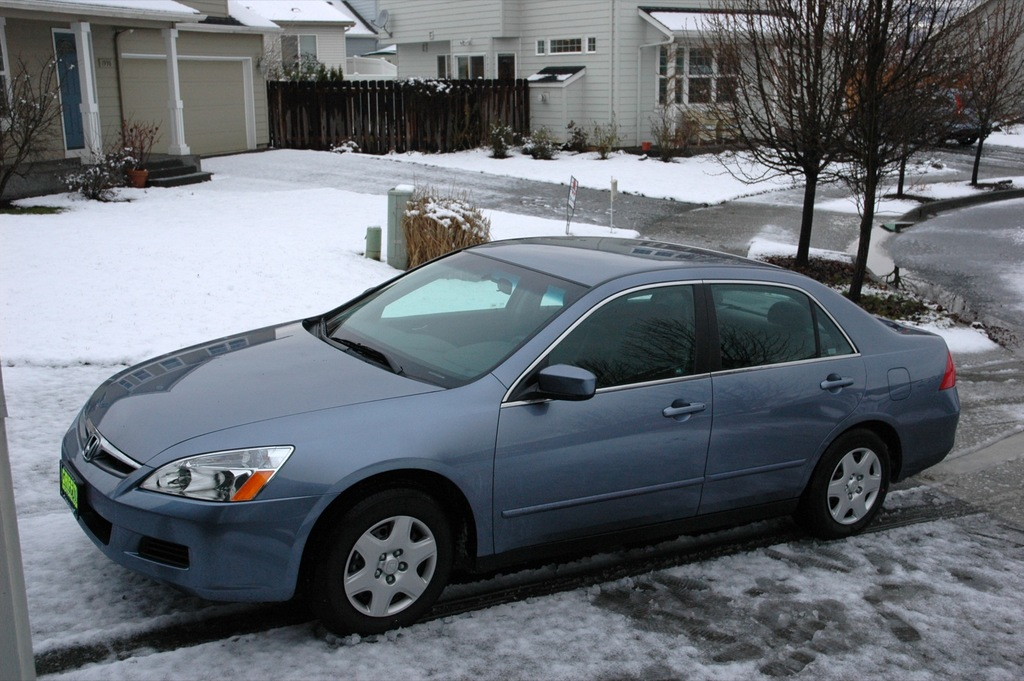Tree: (653, 0, 1024, 303), (0, 39, 75, 198)
